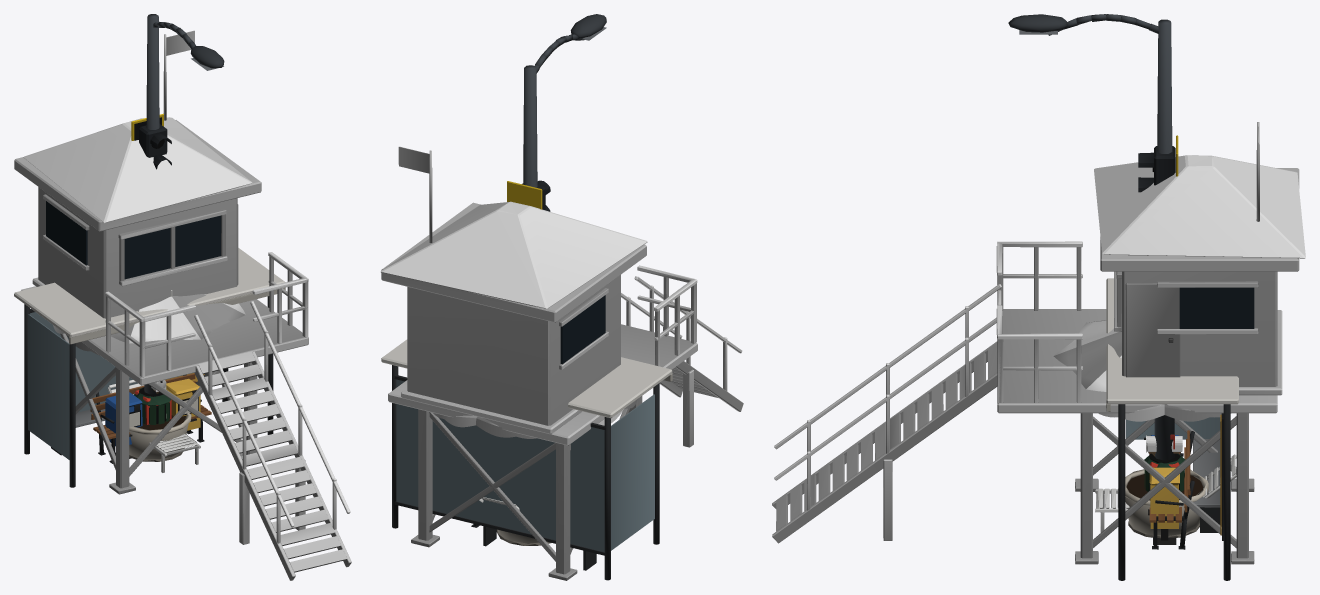
Rendered from props.glb.
3 views of the same model, side by side, from view 1: azimuth 30°, elevation 25°; view 2: azimuth 150°, elevation 25°; view 3: azimuth 270°, elevation 25° (orthographic). The views are drawn at different scales.
Parts seen in each view (by area): view 1: prop_lifeguard, prop_shelter, prop_umbrella, prop_lamp, prop_news, prop_planter, prop_signal, prop_bench, prop_lounger, prop_bin; view 2: prop_lifeguard, prop_shelter, prop_lamp, prop_umbrella, prop_signal; view 3: prop_lifeguard, prop_shelter, prop_lamp, prop_umbrella, prop_planter, prop_news, prop_bench, prop_signal, prop_lounger.
Boxes of the visible parts, box(x1,y1,x2,y2) form: prop_lifeguard: box(14, 30, 351, 580); prop_shelter: box(14, 248, 285, 487); prop_umbrella: box(53, 294, 245, 355); prop_lamp: box(144, 14, 224, 394); prop_news: box(105, 378, 200, 458); prop_planter: box(129, 413, 191, 461); prop_signal: box(131, 113, 171, 169); prop_bench: box(90, 373, 211, 463); prop_lounger: box(107, 380, 200, 472); prop_bin: box(134, 387, 170, 424); prop_lifeguard: box(380, 146, 743, 580); prop_shelter: box(381, 339, 672, 580); prop_lamp: box(523, 14, 606, 187); prop_umbrella: box(433, 399, 637, 438); prop_signal: box(507, 180, 550, 211); prop_lifeguard: box(772, 122, 1305, 564); prop_shelter: box(1106, 278, 1238, 580); prop_lamp: box(1008, 14, 1174, 460); prop_umbrella: box(1053, 320, 1221, 421); prop_planter: box(1125, 469, 1208, 538); prop_news: box(1148, 435, 1179, 544); prop_bench: box(1149, 430, 1194, 549); prop_signal: box(1138, 135, 1178, 192); prop_lounger: box(1095, 454, 1236, 532).
Bounding box in the file's own units: 3.7 × 7.26 × 6.85.
